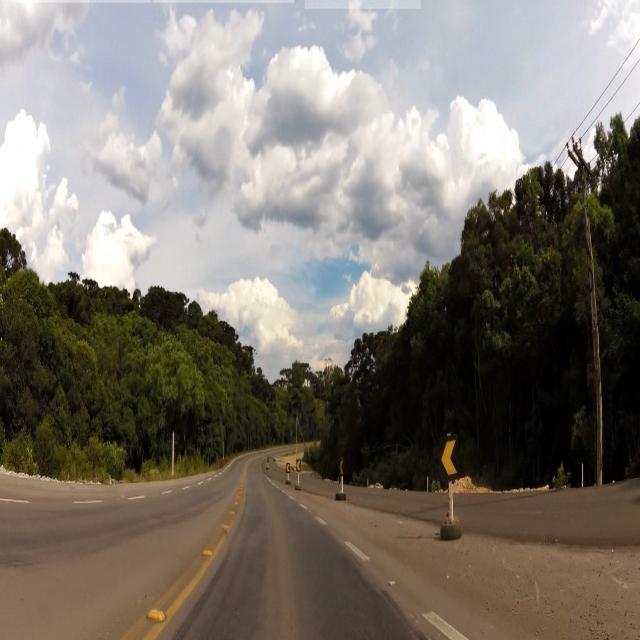Del: (436, 431, 462, 488)
